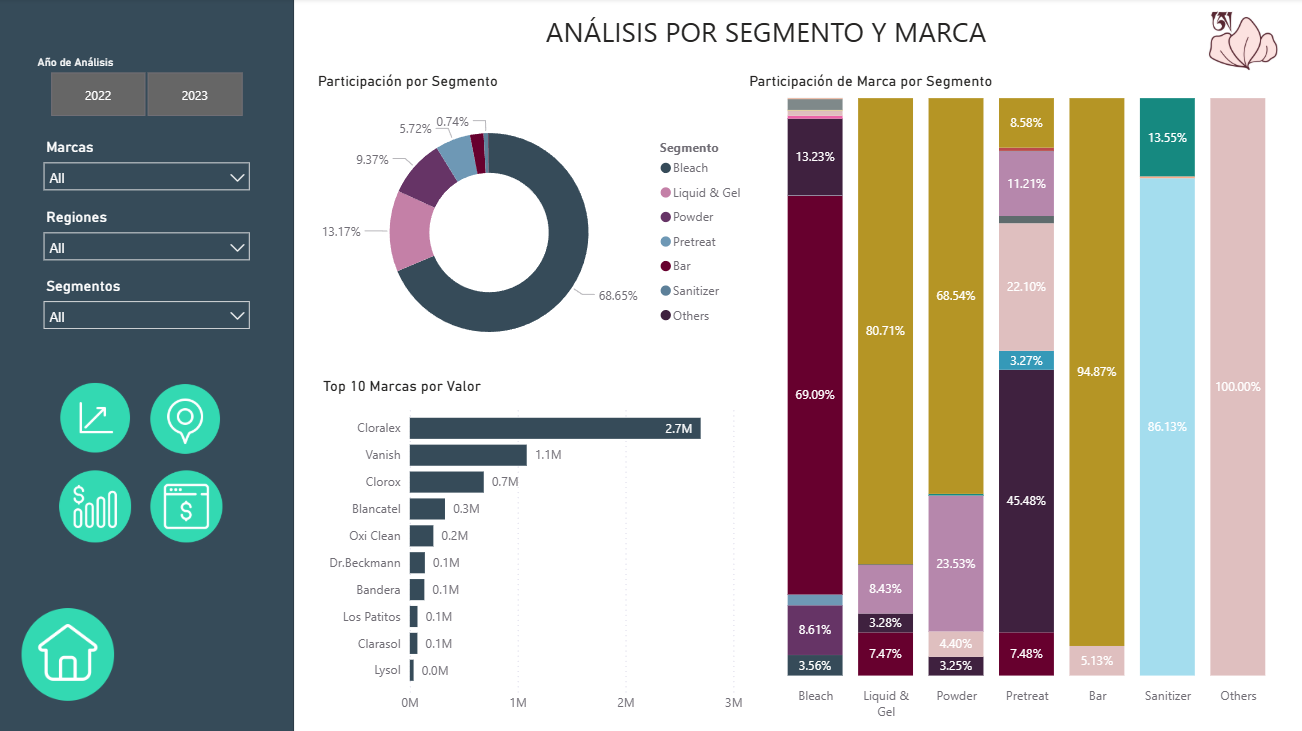

The dashboard page shown, as its layout file describes it:
{"tool":"powerbi","page":{"name":"Segmentos y Marcas","canvas":[1280,720],"ordinal":3},"visuals":[{"type":"donutChart","title":"Participación por Segmento","fields":{"Y":["DAX.Ventas Totales"],"Category":["DIM_SEGMENT.SEGMENT"]},"box":[312.9,72.7,422.6,297.8],"z":0},{"type":"hundredPercentStackedColumnChart","title":"Participación de Marca por Segmento","fields":{"Category":["DIM_SEGMENT.SEGMENT"],"Y":["DAX.Ventas Totales"],"Series":["DIM_PRODUCT.BRAND"]},"box":[735.5,72.7,533.8,636.7],"z":1000},{"type":"textbox","box":[386.4,9.8,730,53.8],"z":2000},{"type":"shape","box":[0,0,289.8,720.2],"z":3000},{"type":"clusteredBarChart","title":"Top 10 Marcas por Valor","fields":{"Y":["DAX.Ventas Totales"],"Category":["DIM_PRODUCT.BRAND"]},"box":[312.9,370.5,422.6,337.6],"z":4000},{"type":"image","title":"Resumen Ejecutivo","box":[18.3,588.2,100.3,107.6],"z":5000},{"type":"slicer","fields":{"Values":["DIM_CALENDAR.YEAR"]},"box":[26.1,50.8,237.4,71.4],"z":6000},{"type":"slicer","fields":{"Values":["DIM_PRODUCT.BRAND"]},"box":[34.3,131.7,222.3,68.6],"z":7000},{"type":"slicer","fields":{"Values":["FACT_SALES.REGION"]},"box":[34.3,200.3,222.3,67.2],"z":8000},{"type":"slicer","fields":{"Values":["DIM_SEGMENT.SEGMENT"]},"box":[34.3,267.6,222.3,65.9],"z":9000},{"type":"image","title":"Resumen Ejecutivo","box":[57.6,373.2,75.5,75.5],"z":10000},{"type":"image","title":"Región y Formato","box":[145.5,374.6,75.5,75.5],"z":11000},{"type":"image","title":"Detalle de Marca","box":[57.6,459.7,75.5,75.5],"z":12000},{"type":"image","title":"Tabla Completa","box":[146.8,459.7,75.5,75.5],"z":13000},{"type":"image","box":[1165,9.6,104.3,63.1],"z":14000}]}

Visuals, with their boxes in screenshot pixels (x1, y1, x2, y2), scaled from the page's 1280x720 canvas onto the 1302x731 screenshot:
"Participación por Segmento" donutChart: box(318, 74, 748, 376)
"Participación de Marca por Segmento" hundredPercentStackedColumnChart: box(748, 74, 1291, 720)
textbox: box(393, 10, 1136, 65)
shape: box(0, 0, 295, 730)
"Top 10 Marcas por Valor" clusteredBarChart: box(318, 376, 748, 719)
"Resumen Ejecutivo" image: box(19, 597, 121, 706)
slicer - DIM_CALENDAR.YEAR: box(27, 52, 268, 124)
slicer - DIM_PRODUCT.BRAND: box(35, 134, 261, 203)
slicer - FACT_SALES.REGION: box(35, 203, 261, 272)
slicer - DIM_SEGMENT.SEGMENT: box(35, 272, 261, 339)
"Resumen Ejecutivo" image: box(59, 379, 135, 456)
"Región y Formato" image: box(148, 380, 225, 457)
"Detalle de Marca" image: box(59, 467, 135, 543)
"Tabla Completa" image: box(149, 467, 226, 543)
image: box(1185, 10, 1291, 74)
